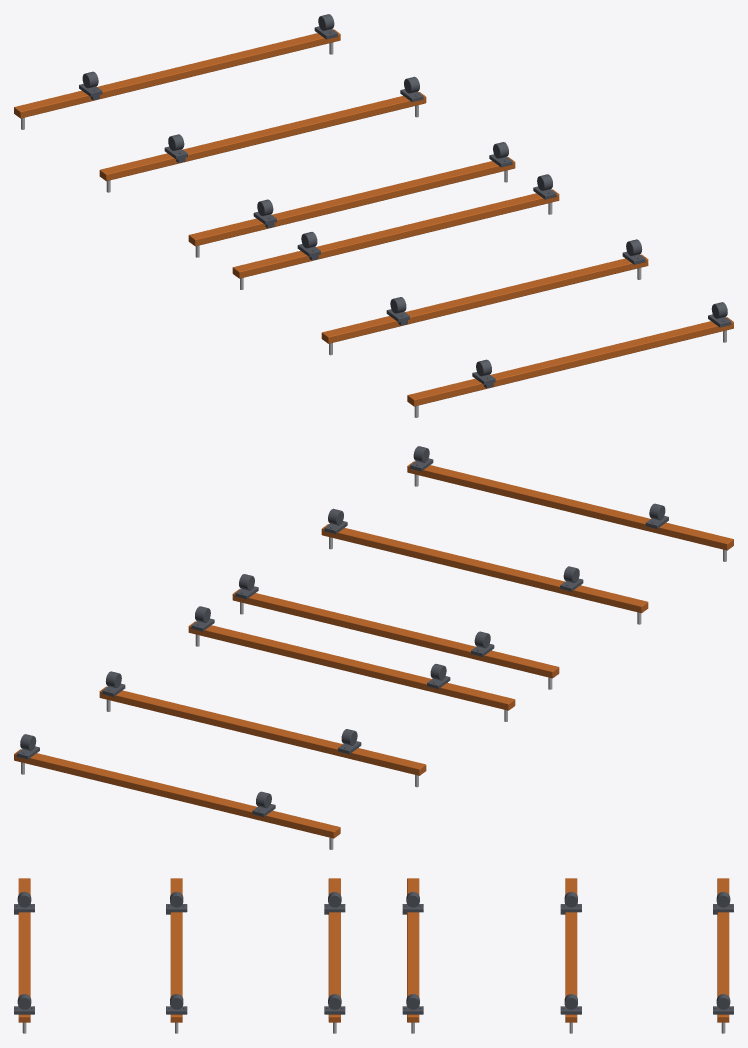
The model's file is stacker_ending_lift.glb.
3 views of the same model, one above another, from view 1: azimuth 30°, elevation 25°; view 2: azimuth 150°, elevation 25°; view 3: azimuth 270°, elevation 25° (orthographic). The views are drawn at different scales.
Visible parts, largest first — view 1: EndingLift, EndingLiftBearings, EndingLiftRods; view 2: EndingLift, EndingLiftBearings, EndingLiftRods; view 3: EndingLift, EndingLiftBearings, EndingLiftRods.
Part boxes in pixels (box(x1,y1,x2,y2)): EndingLift: box(14, 29, 733, 406); EndingLiftBearings: box(79, 14, 731, 388); EndingLiftRods: box(21, 42, 726, 417); EndingLift: box(14, 461, 733, 838); EndingLiftBearings: box(16, 446, 668, 816); EndingLiftRods: box(21, 474, 726, 849); EndingLift: box(18, 878, 729, 1022); EndingLiftBearings: box(14, 891, 733, 1014); EndingLiftRods: box(22, 1022, 725, 1033).
Size of the model in its own units: 2.18 by 0.257 by 4.78.
